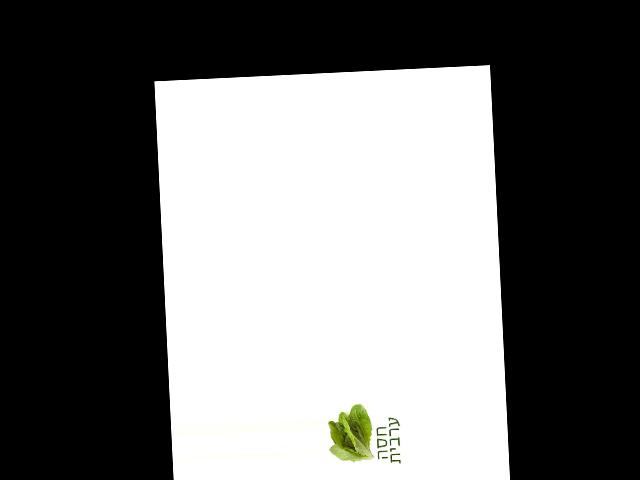lettuce: (327, 402, 379, 466)
